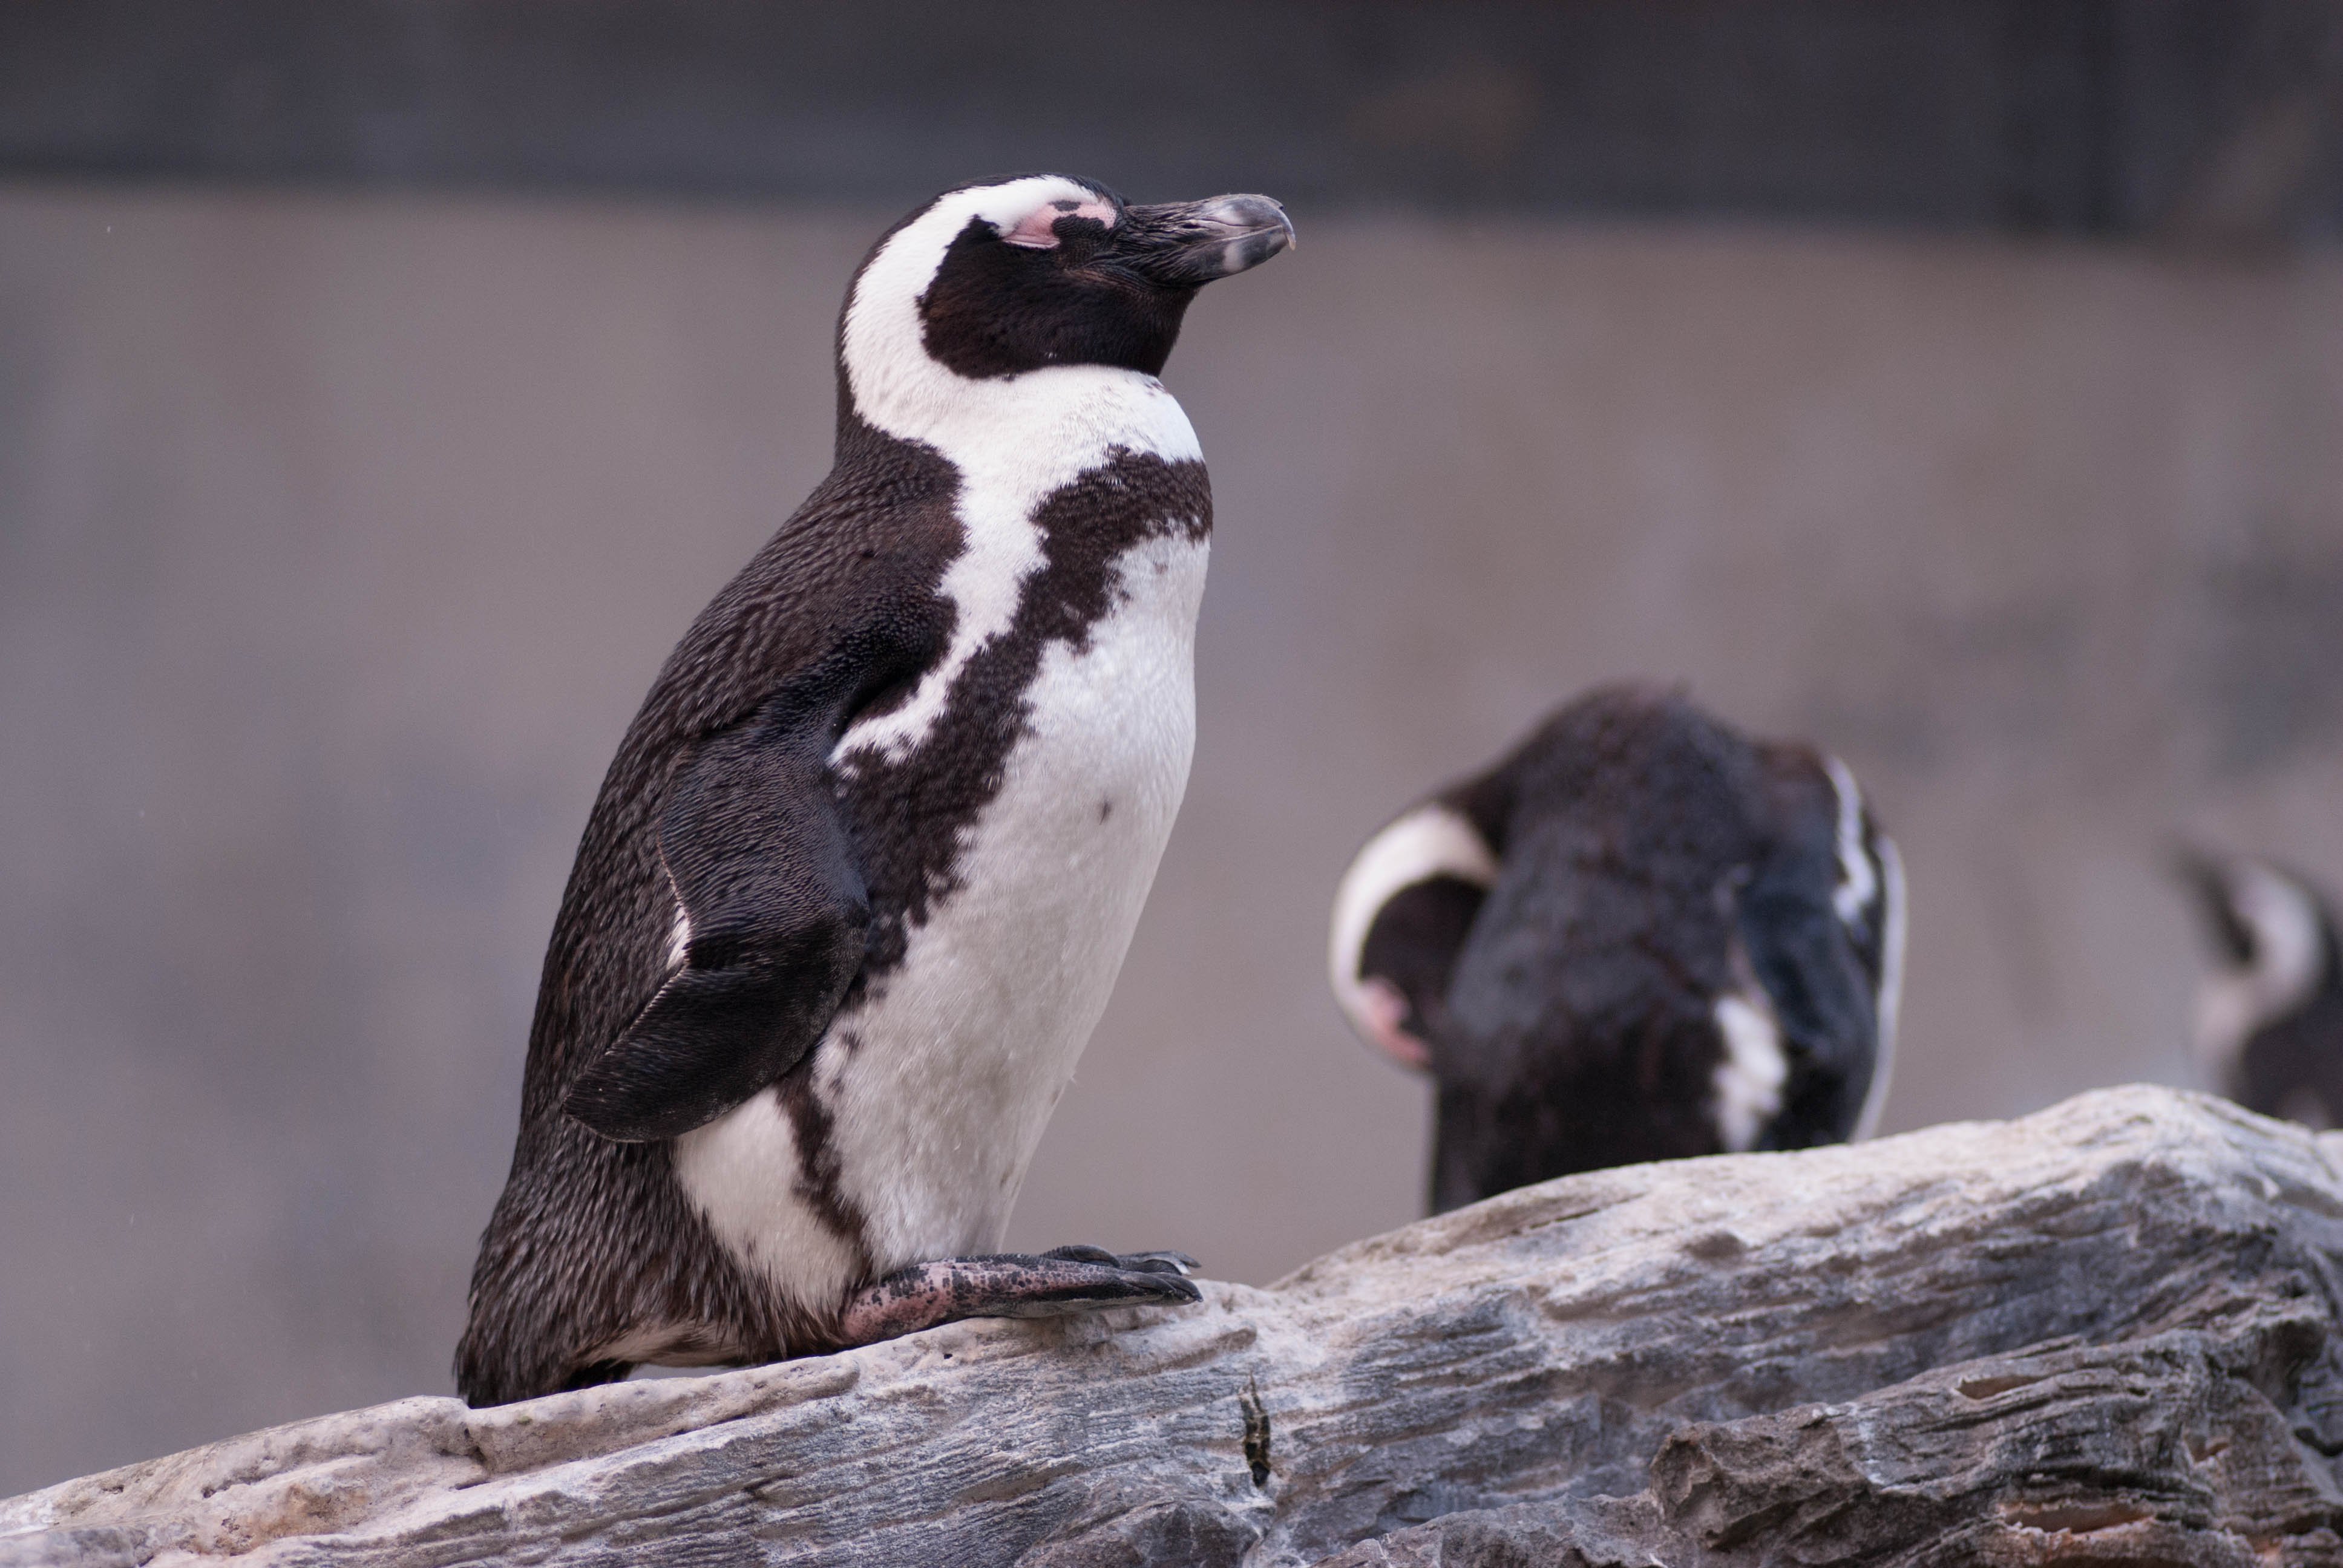penguin: (502, 173, 1297, 1391)
